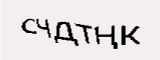Е: (89, 22, 104, 46)
Ж: (67, 17, 90, 44)
П: (100, 22, 122, 46), (51, 15, 66, 41)
Э: (39, 15, 52, 39)
